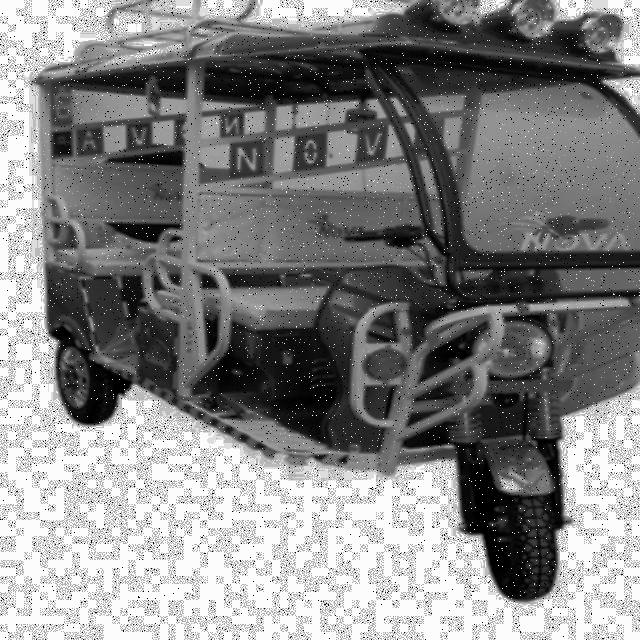Toto: (31, 18, 640, 599)
